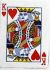king: (1, 1, 48, 68)
